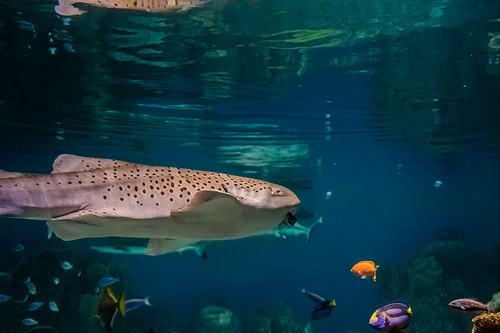shark: (6, 137, 315, 260)
